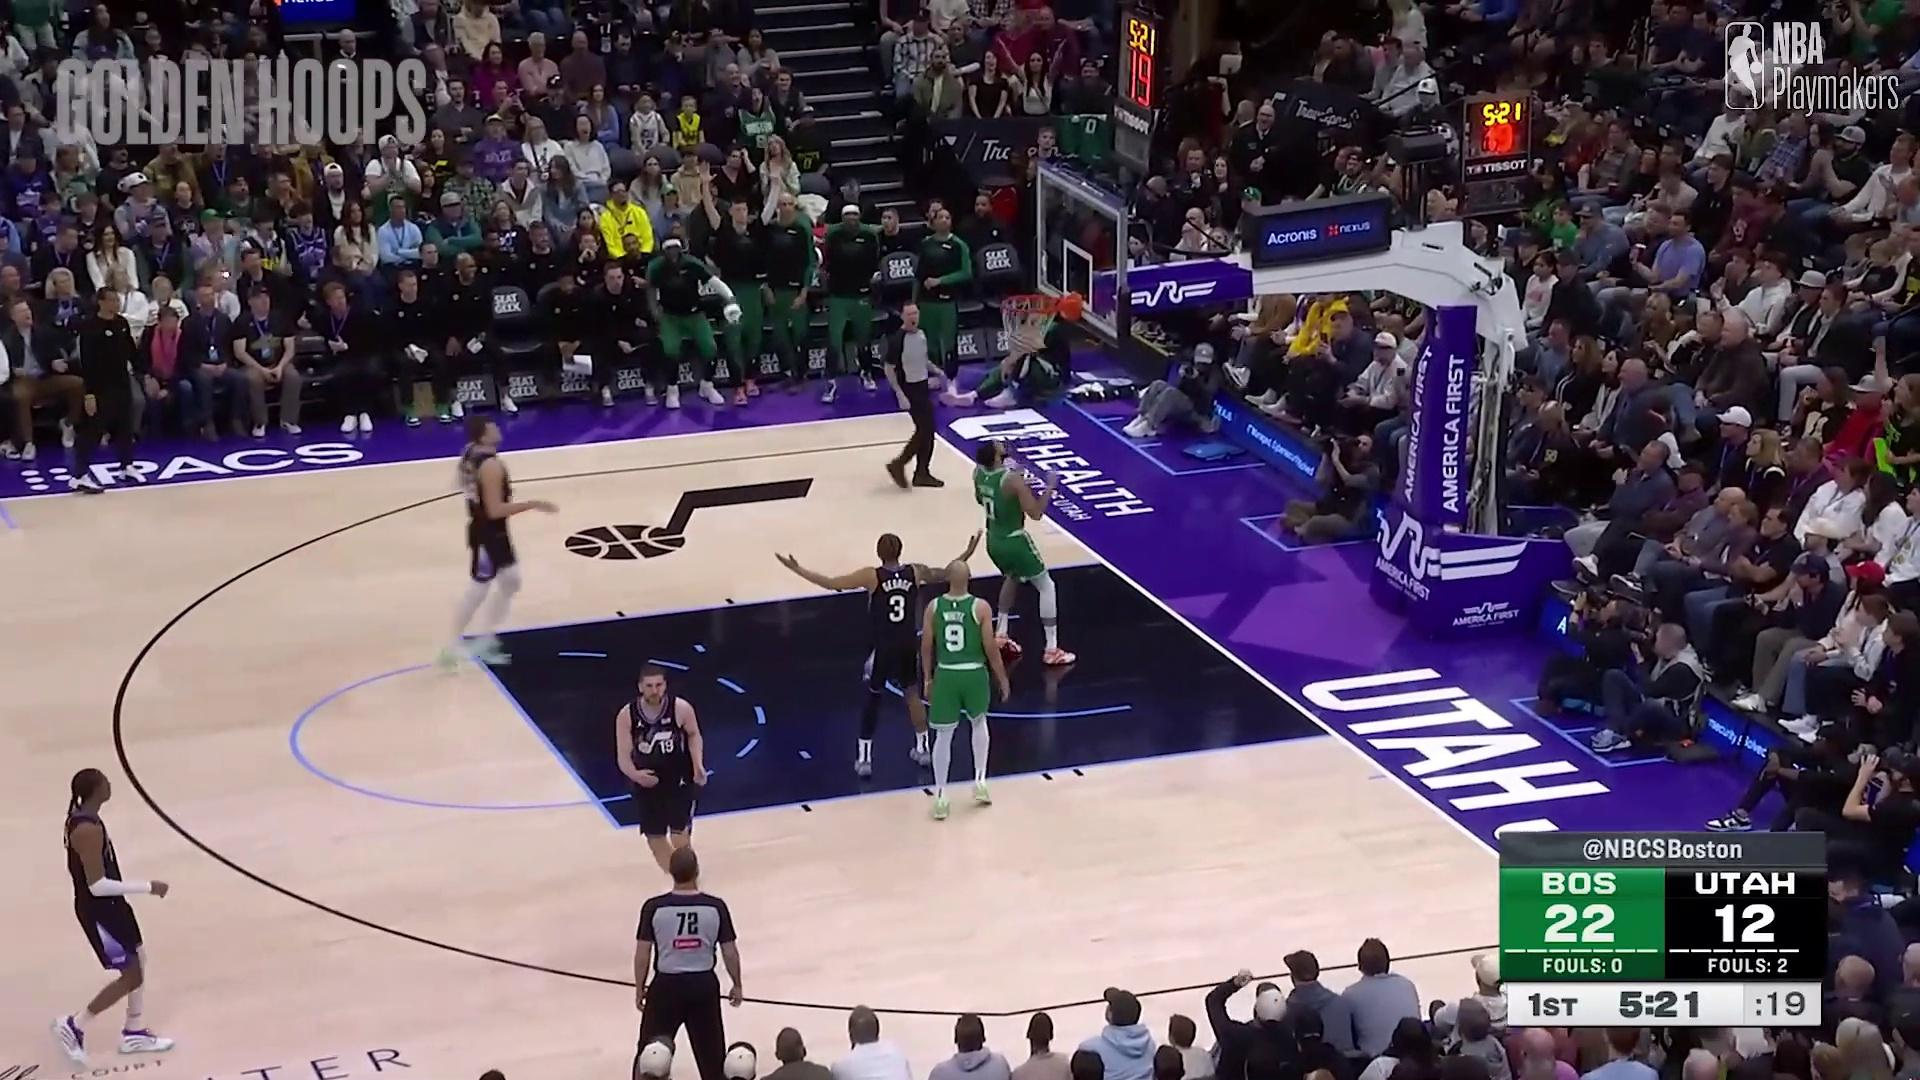hoop: (998, 277, 1060, 359)
